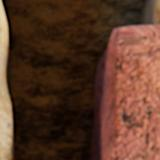brick: (107, 26, 159, 159)
crack: (0, 0, 159, 159)
